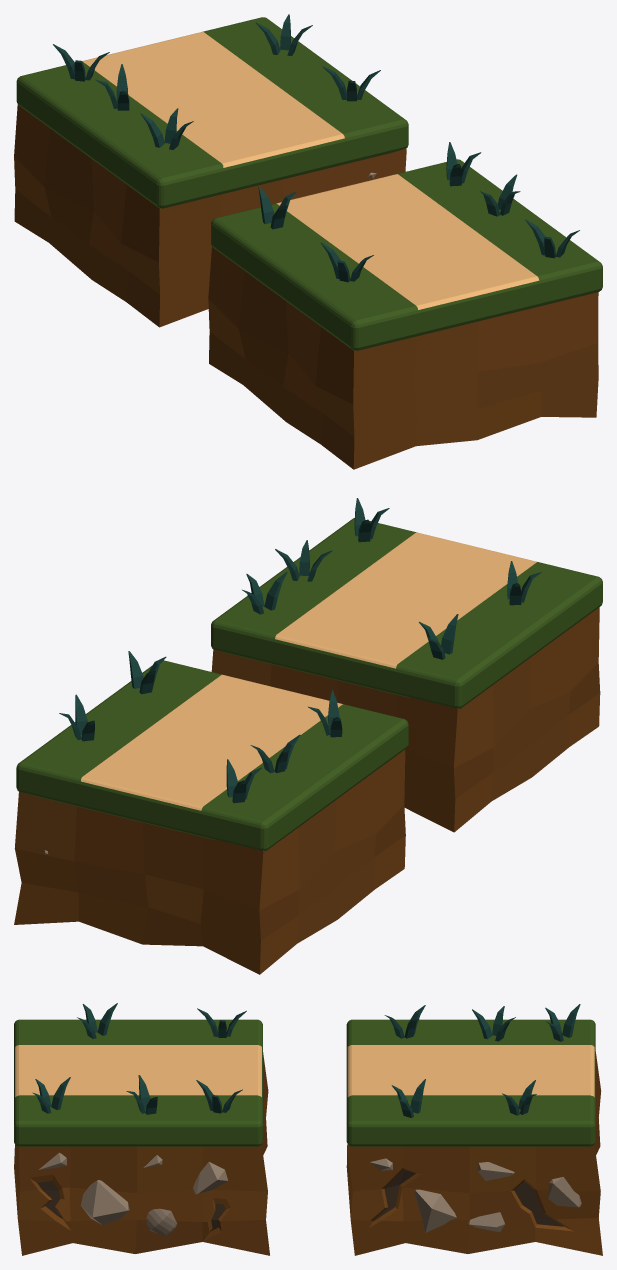
The model's file is assets_do_chao.fbx.
3 renders of one model, top to bottom at view 1: azimuth 30°, elevation 25°; view 2: azimuth 150°, elevation 25°; view 3: azimuth 270°, elevation 25°, orthographic. The views are drawn at different scales.
Parts seen in each view (by area): view 1: Cube.016, Cube.001; view 2: Cube.001, Cube.016; view 3: Cube.001, Cube.016.
Boxes of the visible parts, x1=… form: Cube.016: x1=208, y1=142, x2=602, y2=469; Cube.001: x1=14, y1=14, x2=408, y2=327; Cube.001: x1=14, y1=651, x2=408, y2=974; Cube.016: x1=211, y1=498, x2=602, y2=832; Cube.001: x1=346, y1=1004, x2=602, y2=1255; Cube.016: x1=14, y1=1003, x2=269, y2=1255.
Bounding box in the file's own units: 427 × 295 × 977.
